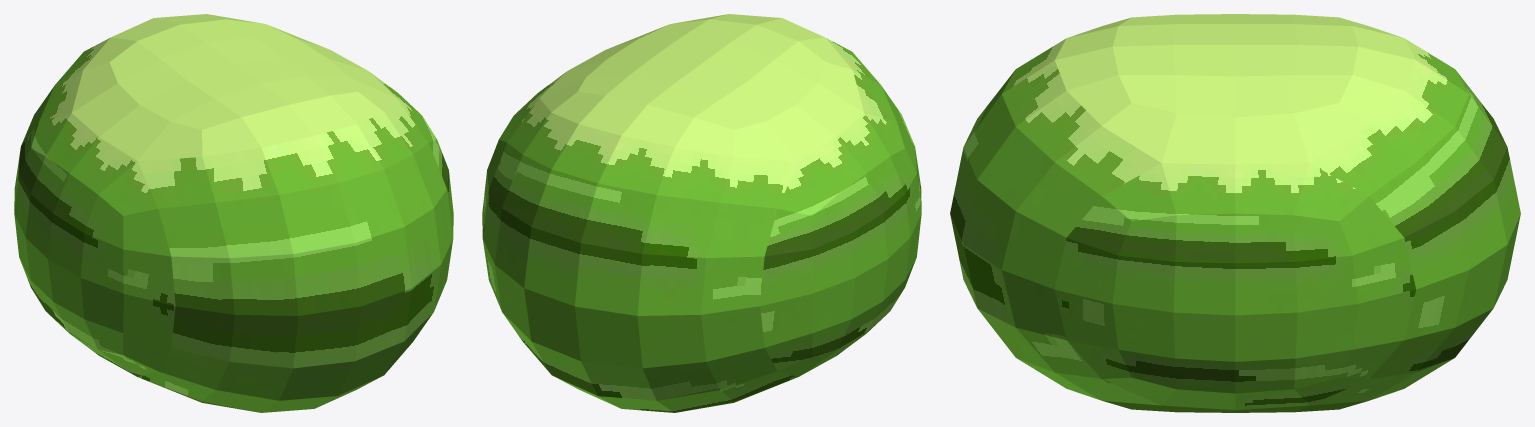
File: Sandia.fbx
The picture shows the model from 3 angles, left to right: view 1: azimuth 30°, elevation 25°; view 2: azimuth 150°, elevation 25°; view 3: azimuth 270°, elevation 25°; orthographic projection. The views are drawn at different scales.
Parts seen in each view (by area): view 1: Cube; view 2: Cube; view 3: Cube.
Boxes of the visible parts, x1,y1,x2,y2 form: Cube: (14,14,453,412); Cube: (482,14,921,412); Cube: (950,14,1520,412).
Size of the model in its own units: 341 by 404 by 263.
Materials: 1 (1 with a texture image).
